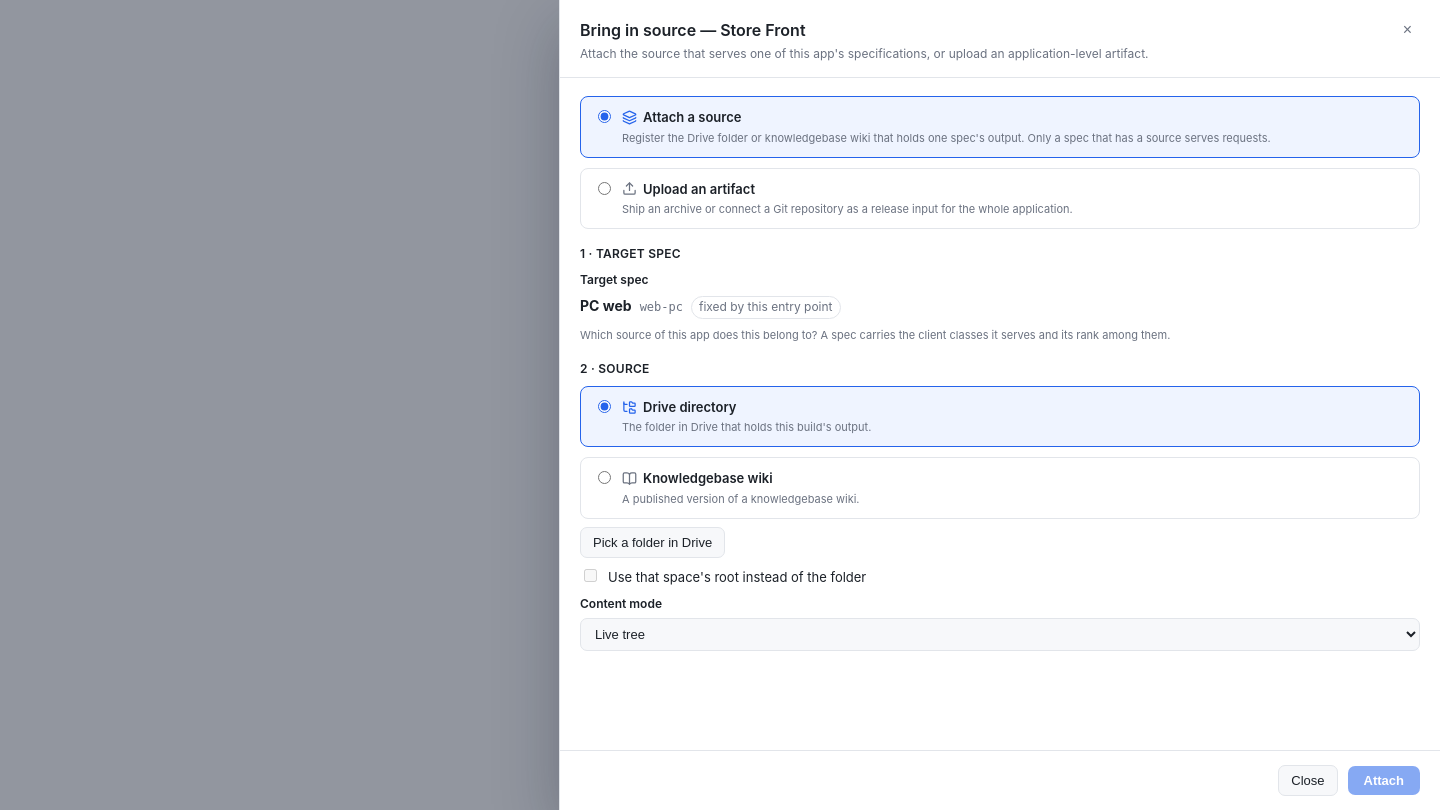
it: source-intake dialog — attach a source › refuses a file in the attach flow, because a source is a directory
Click the button "Pick a folder in Drive". click: point(653, 542)
box: [580,527,725,558]
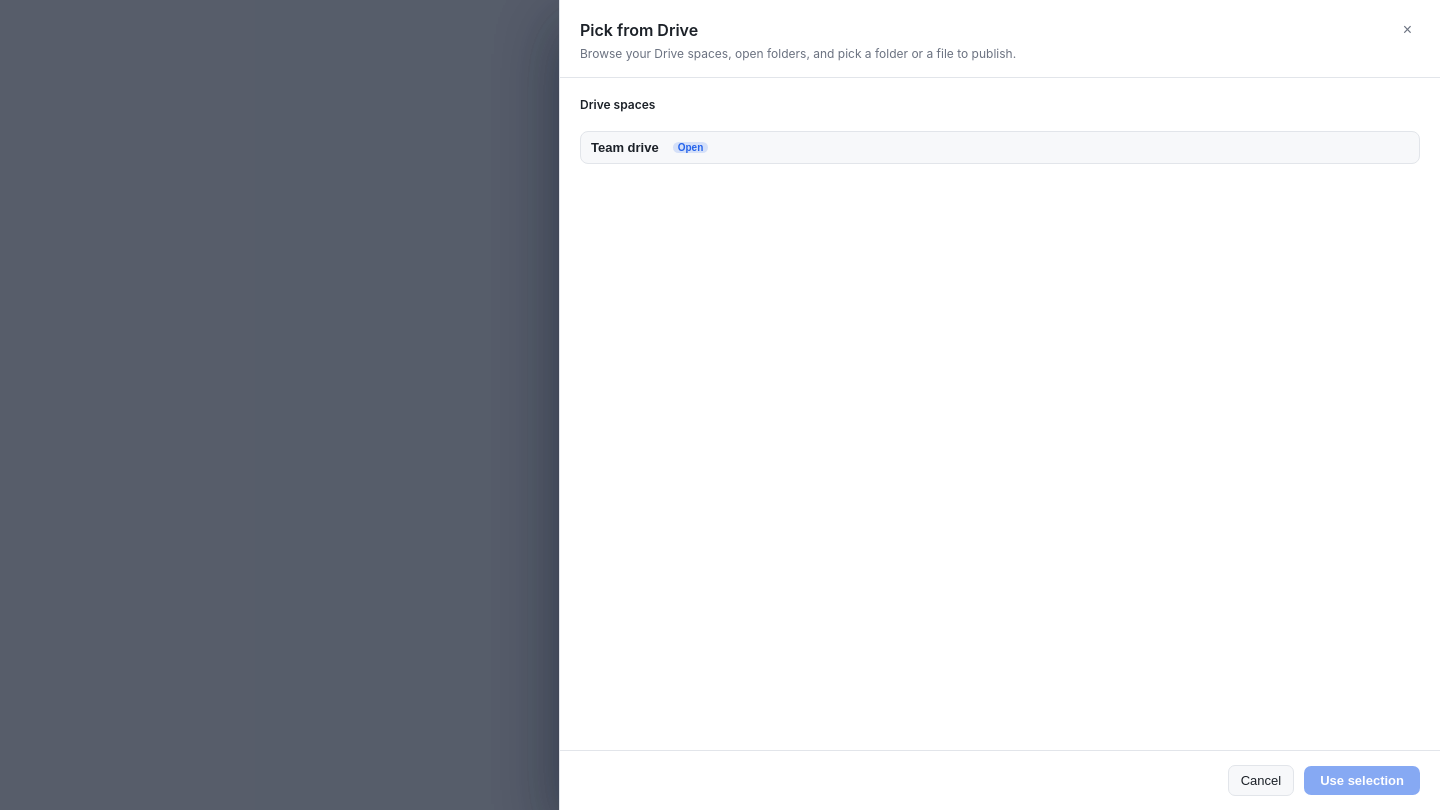
Check: the button "Team drive Open" is shown
Click the button "Team drive Open". click: point(625, 147)
box: [581,132,1419,163]
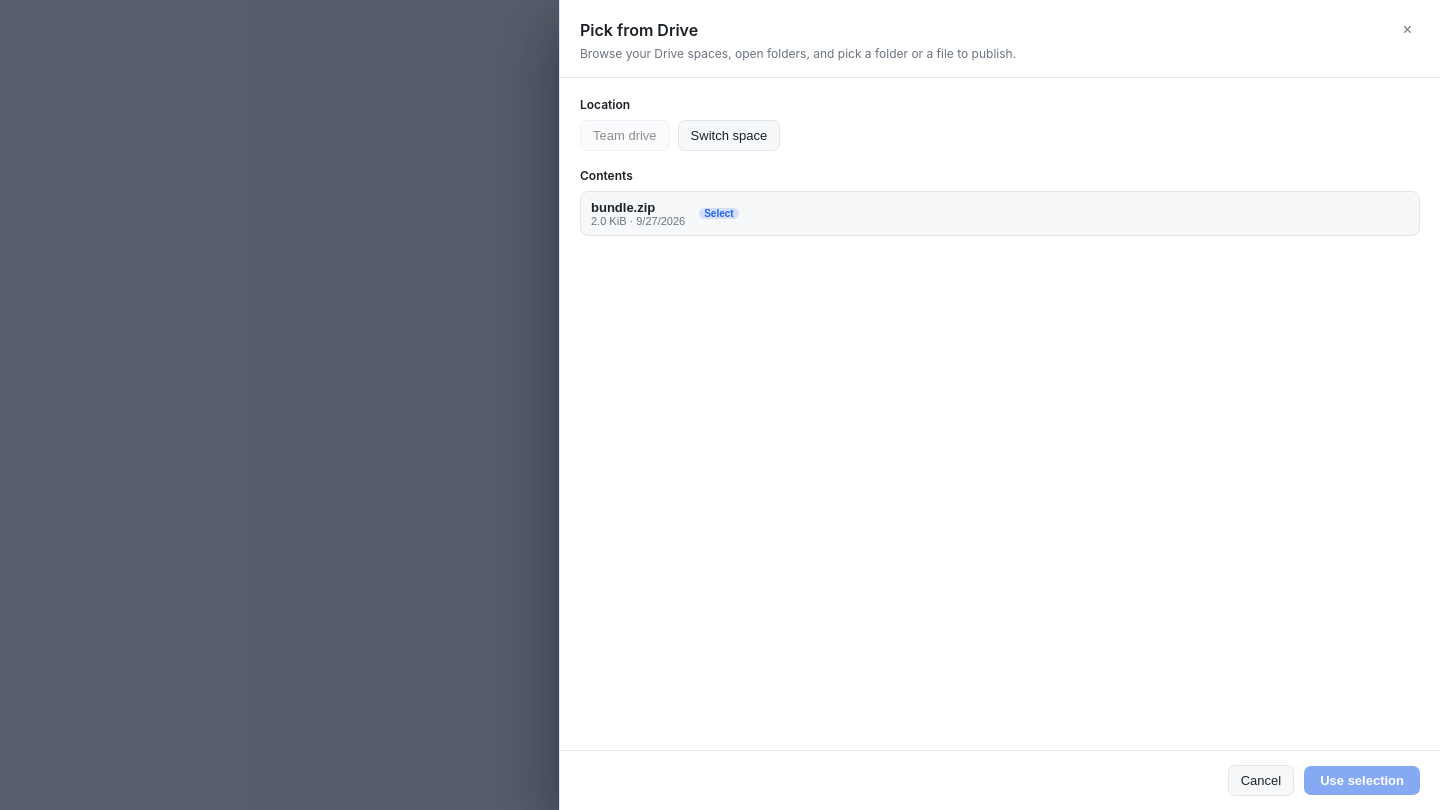
Check: the button "bundle.zip 2.0 KiB · 9/27/2026 Select" is shown
Click the button "bundle.zip 2.0 KiB · 9/27/2026 Select". click: point(623, 207)
box: [581,192,1419,235]
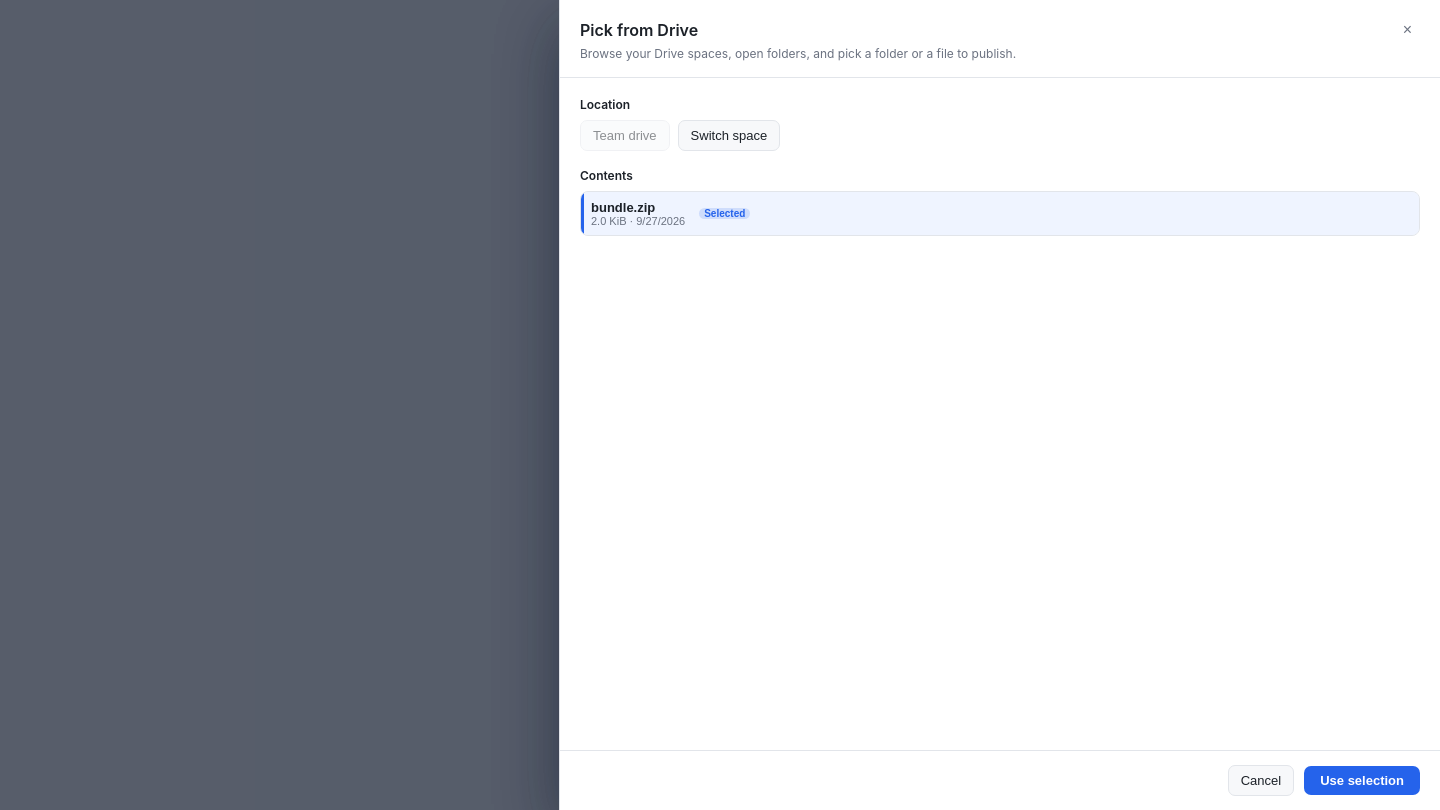
Check: the button "Use selection" is shown
Click the button "Use selection". click: point(1362, 780)
box: [1304,766,1420,795]
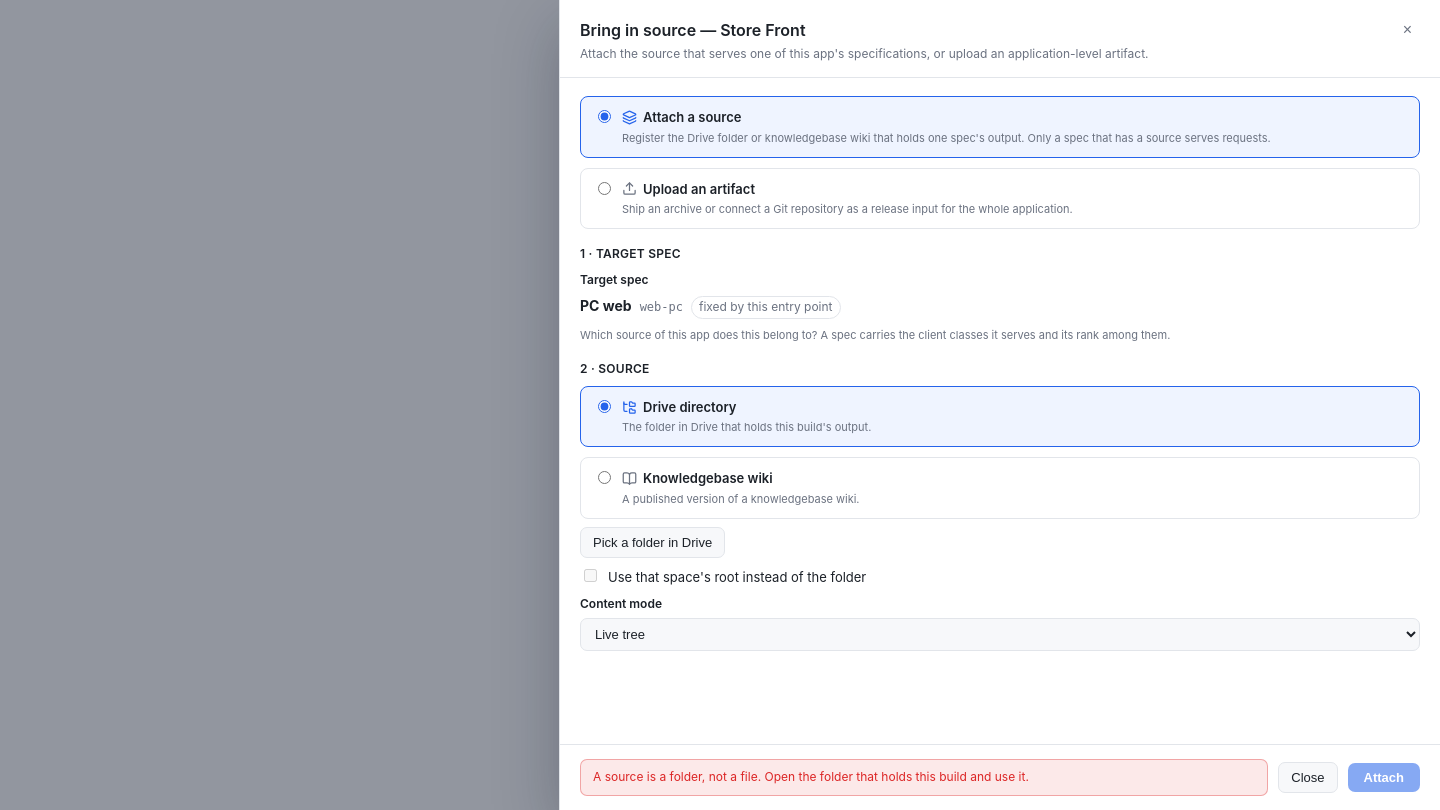
Check: the button "Attach" is disabled, box [1348,763,1420,792]
Check: the text "A source is a folder, not a file" is shown, box [593,769,1029,784]
